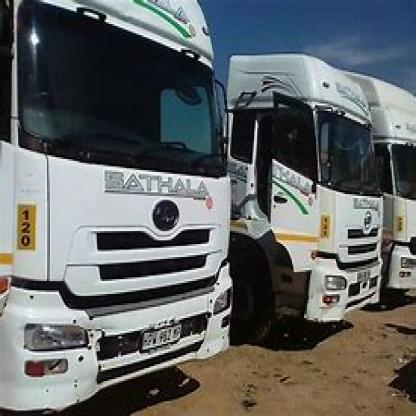dump_truck: (0, 0, 236, 410), (236, 28, 378, 338), (378, 76, 415, 305)
